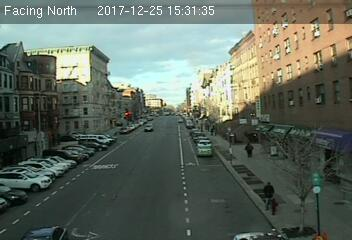car: (195, 143, 215, 157), (143, 123, 153, 131)
pedestrian: (261, 181, 275, 212)
